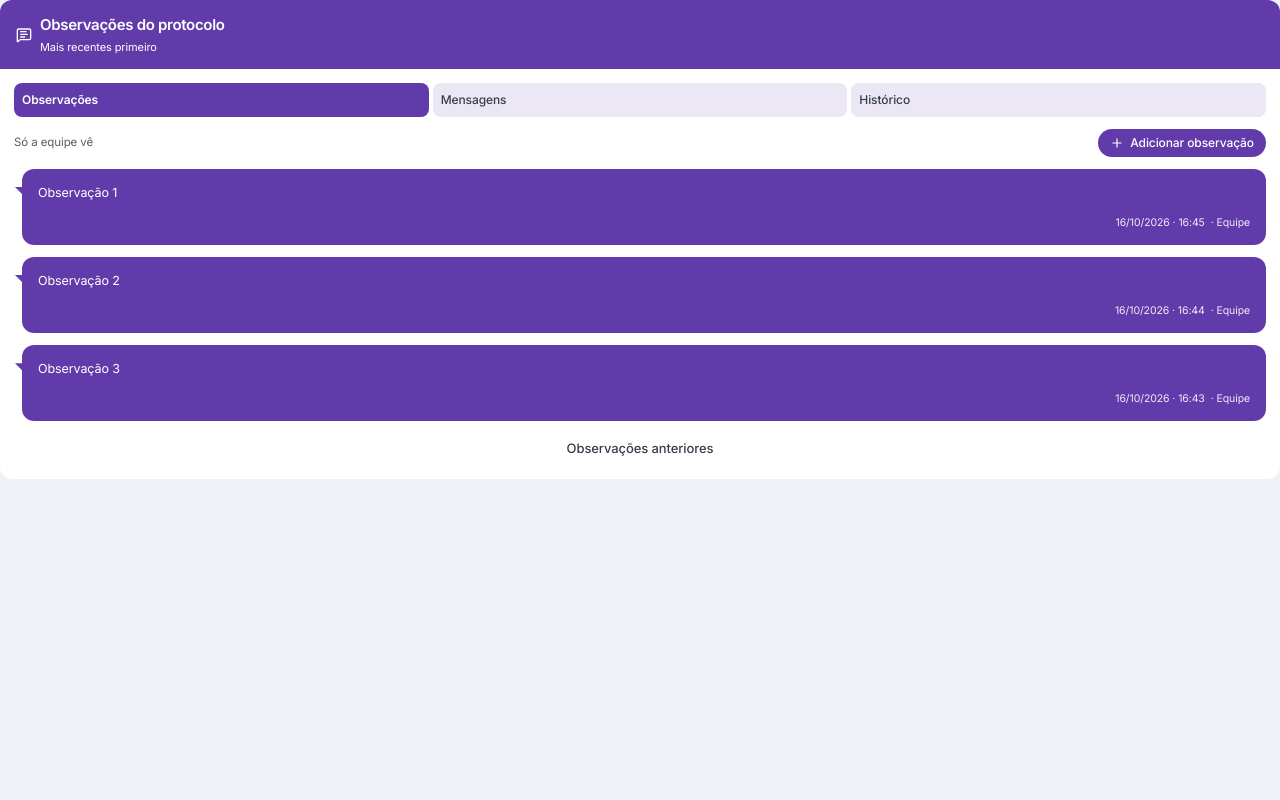
Test: mostra três observações recentes e permite consultar todas as anteriores
Expected: the text "Observação 1" is shown, x1=38 y1=185 x2=117 y2=200
Expected: the text "Observação 3" is shown, x1=38 y1=361 x2=120 y2=376
Click the button "Observações anteriores" at (640, 449), box x1=14 y1=433 x2=1266 y2=465
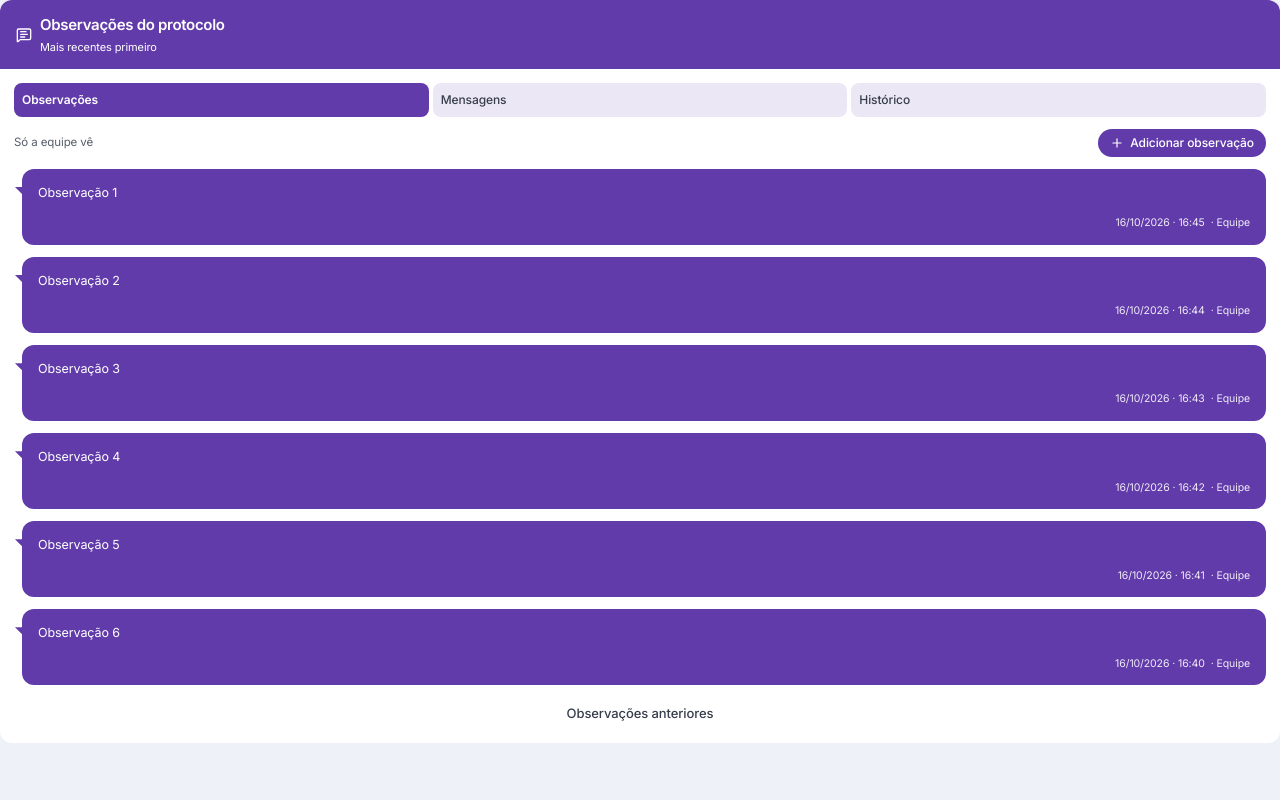
Expected: the text "Observação 6" is shown, x1=38 y1=625 x2=120 y2=640
Click the button "Observações anteriores" at (640, 713), box x1=14 y1=697 x2=1266 y2=729
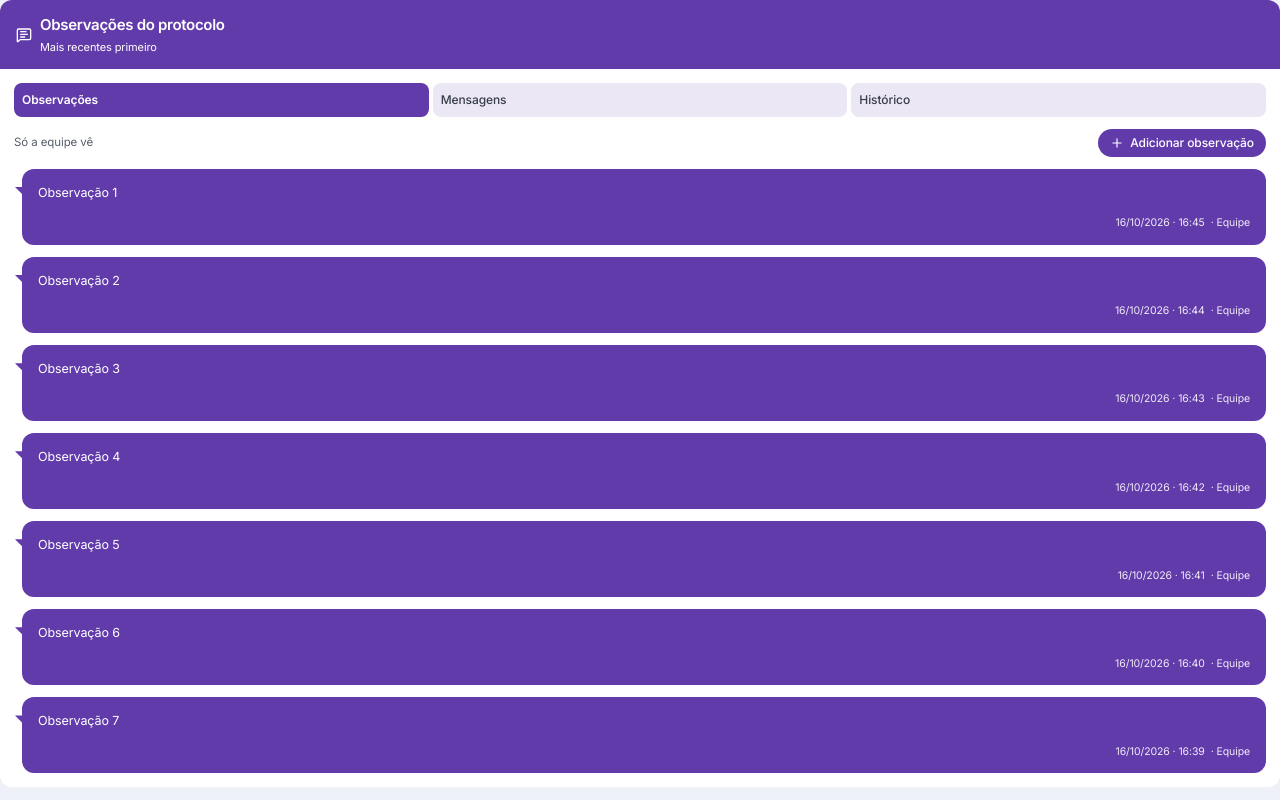
Expected: the text "Observação 7" is shown, x1=38 y1=713 x2=119 y2=728
Expected: the button "Observações anteriores" is gone
